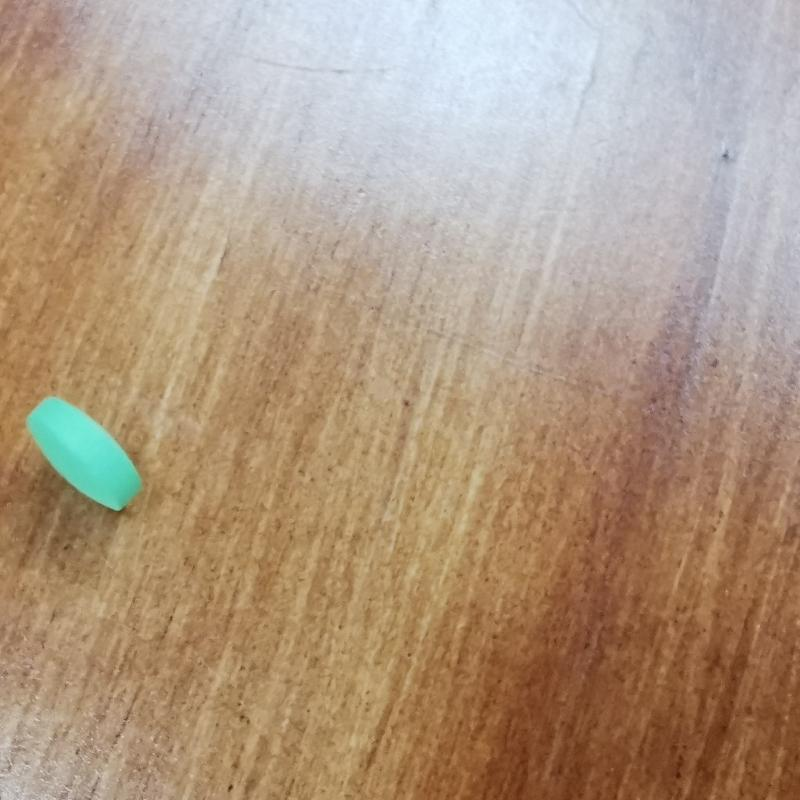pills: (19, 375, 159, 545)
